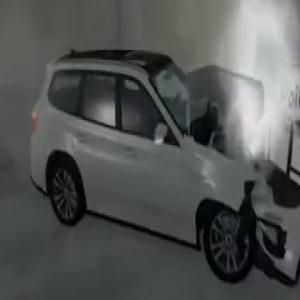severe: (19, 0, 300, 300)
